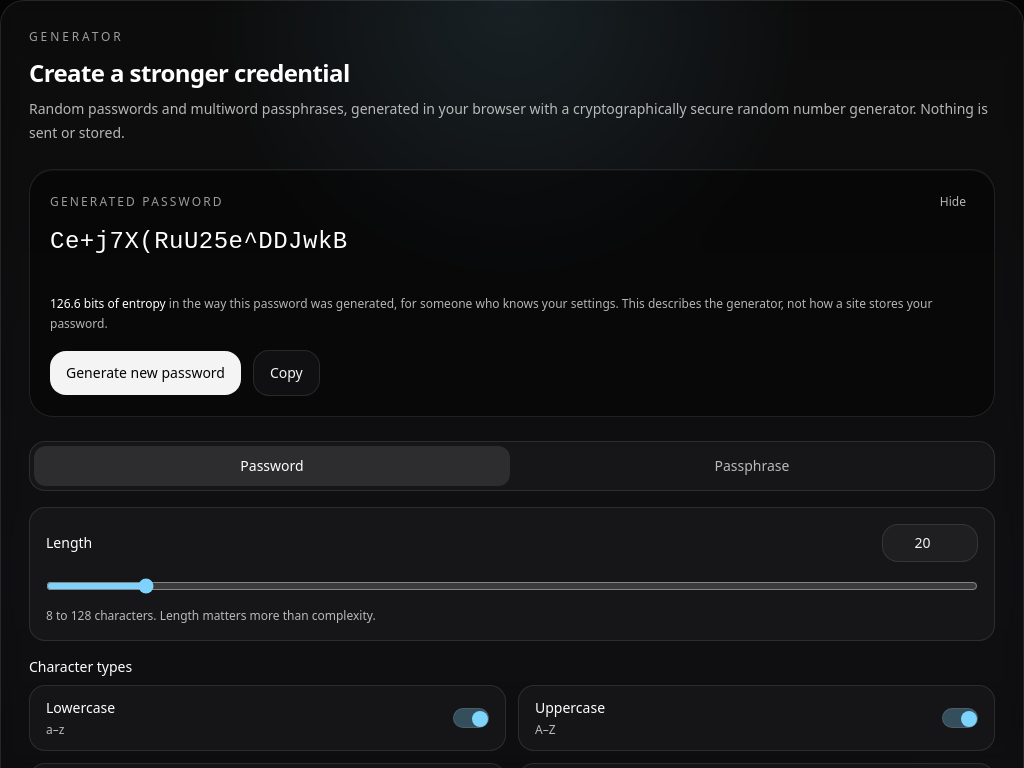
Test: PasswordGenerator: configuration › explains an out-of-range length in an alert and generates nothing
Replace the text in the number field labelled "Length" with "5" at (930, 543), box top-left (882, 524), bottom-right (978, 562)
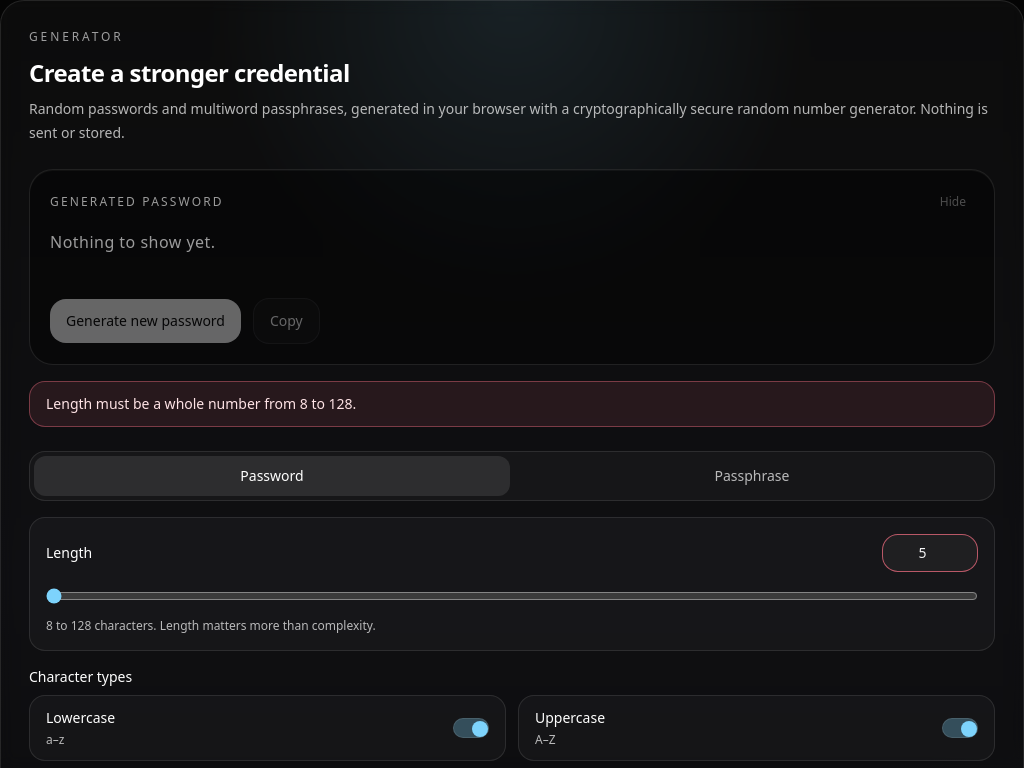
Expected: the message shows "Length must be a whole number from 8 to 128", top-left (46, 394), bottom-right (356, 413)
Expected: the element labelled "Nothing to show yet." is shown, top-left (50, 231), bottom-right (216, 253)
Expected: the button "Copy" is disabled, top-left (253, 298), bottom-right (320, 344)
